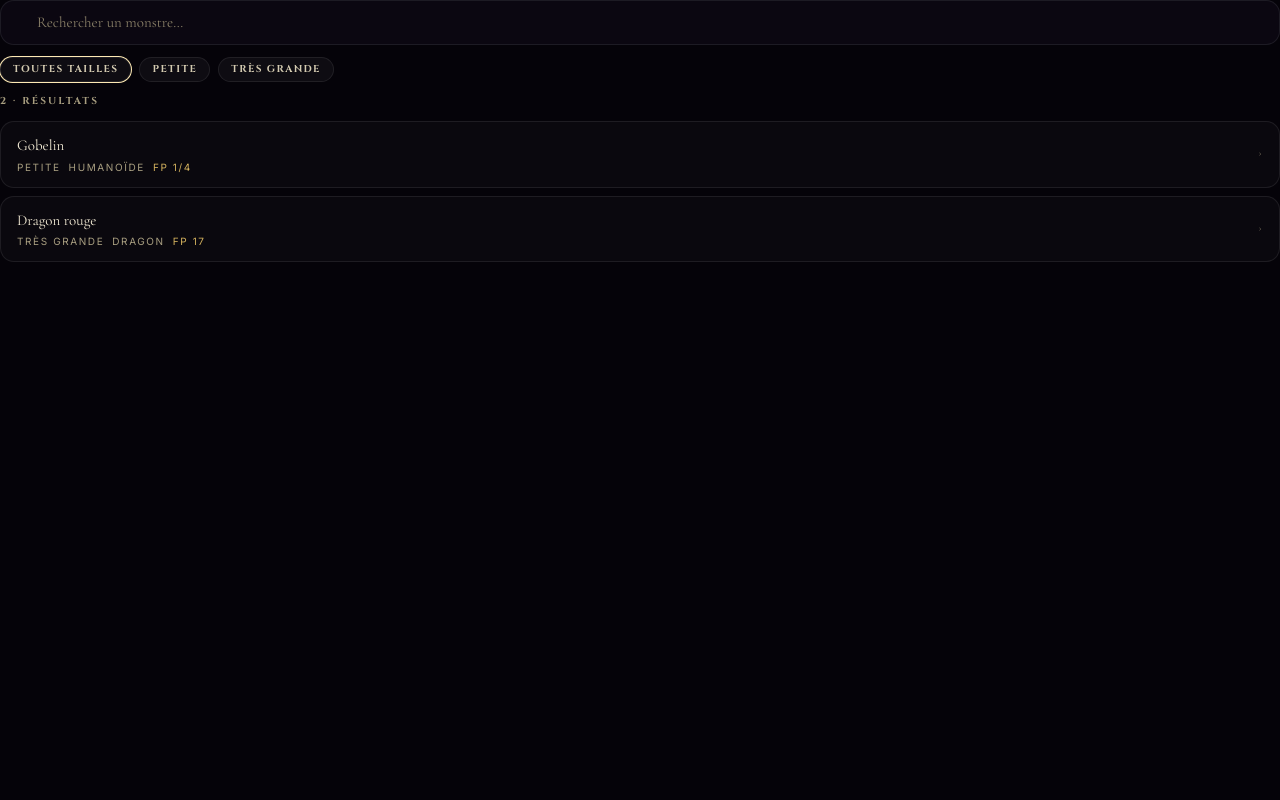
it: MonsterBrowser (Codex) › modale : CA/PV exacts + vitesse en mètres (30 ft → 9 m) + trait/action
Click the text "Gobelin": (41,145) [17,136,64,154]
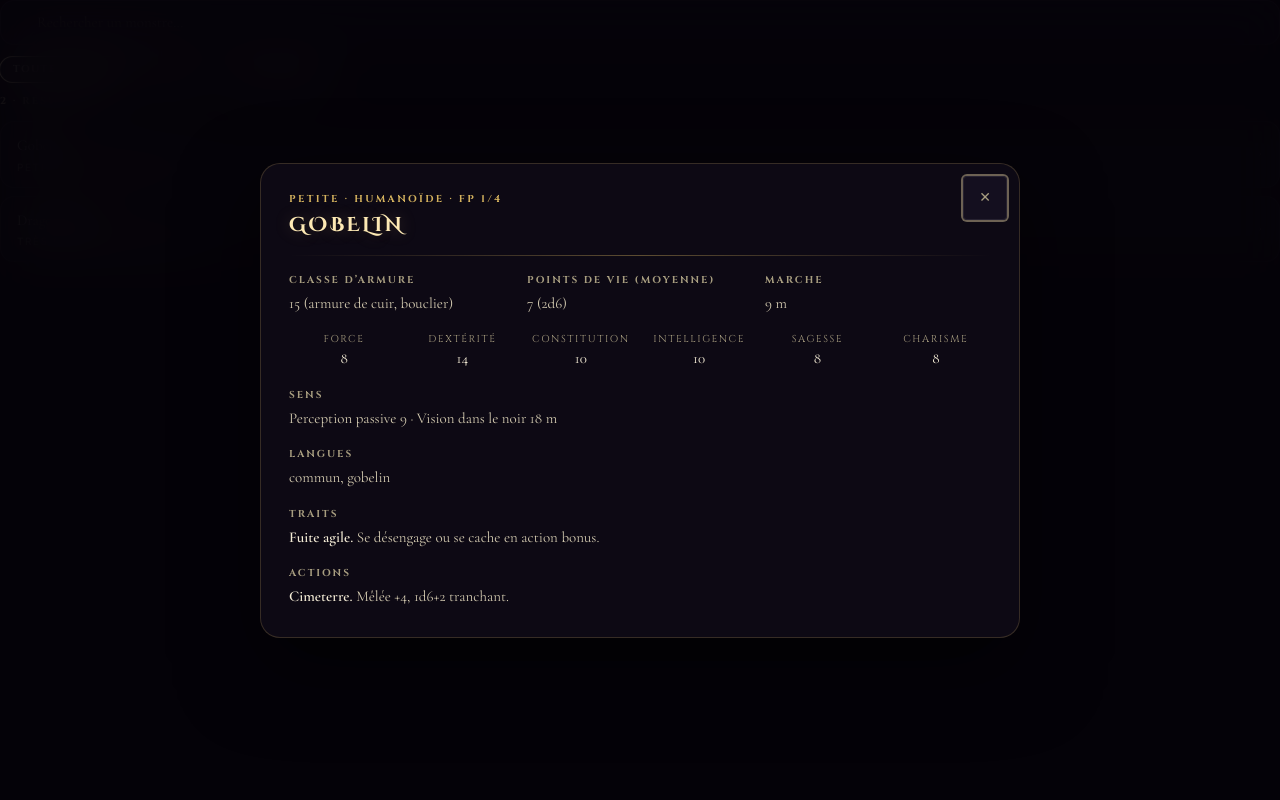
Result: the text "Petite · humanoïde · FP 1/4" is shown at [289,192,503,206]
Result: the text "15 (armure de cuir, bouclier)" is shown at [289,294,453,312]
Result: the text "7 (2d6)" is shown at [527,294,567,312]
